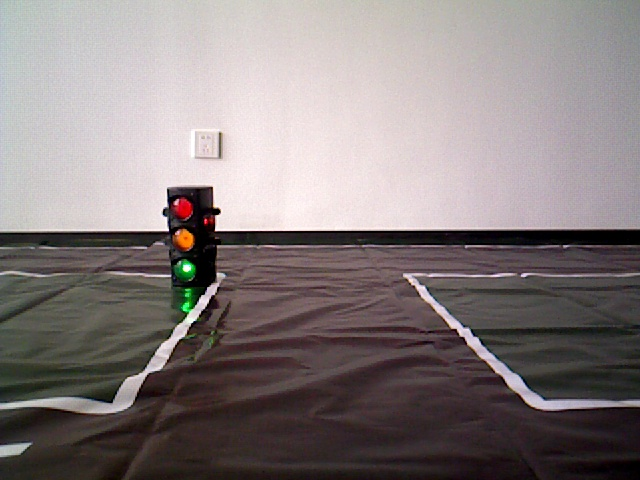green: (167, 189, 209, 277)
